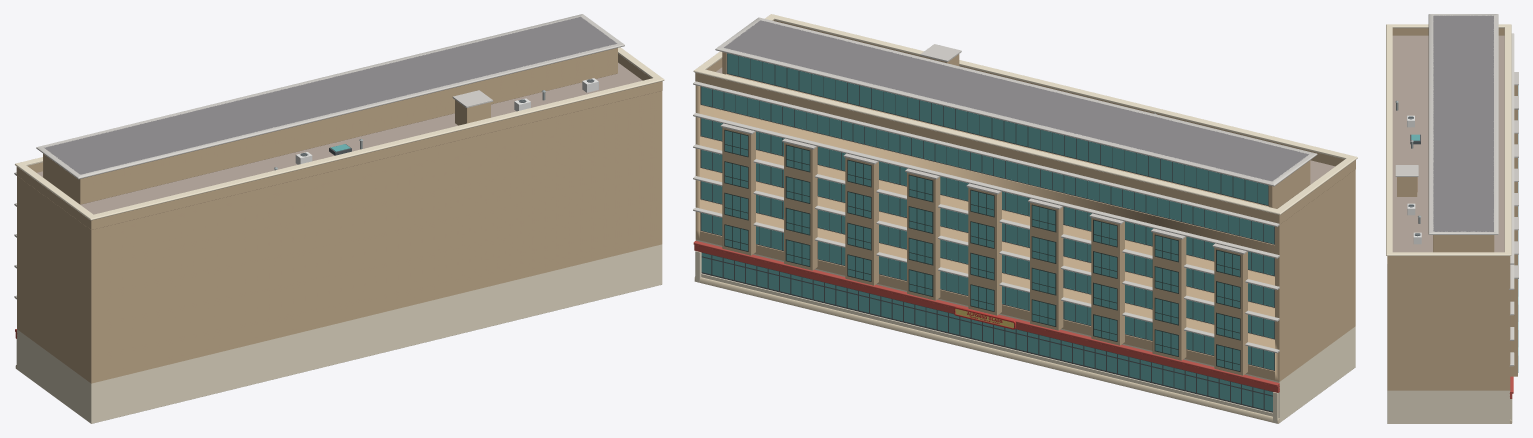
Rendered from terminus_s.glb.
3 renders of one model, left to right at view 1: azimuth 30°, elevation 25°; view 2: azimuth 150°, elevation 25°; view 3: azimuth 270°, elevation 25°, orthographic. The views are drawn at different scales.
Visible parts, largest first — view 1: shell, penthouse, trim, props; view 2: shell, props, trim, penthouse, frames, penthouse frames; view 3: shell, penthouse, trim, props.
Boxes of the visible parts, box(x1,y1,x2,y2) form: shell: box(17, 62, 662, 423); penthouse: box(43, 16, 617, 204); trim: box(14, 14, 664, 369); props: box(274, 78, 598, 170); shell: box(695, 67, 1355, 422); props: box(720, 44, 1247, 375); trim: box(693, 14, 1357, 423); penthouse: box(722, 20, 1310, 208); frames: box(700, 87, 1274, 412); penthouse frames: box(726, 53, 1268, 205); shell: box(1387, 35, 1510, 423); penthouse: box(1433, 15, 1494, 252); trim: box(1386, 14, 1514, 423); props: box(1395, 72, 1518, 376).
Bounding box in the file's own units: 62.31 × 23.32 × 15.15.
